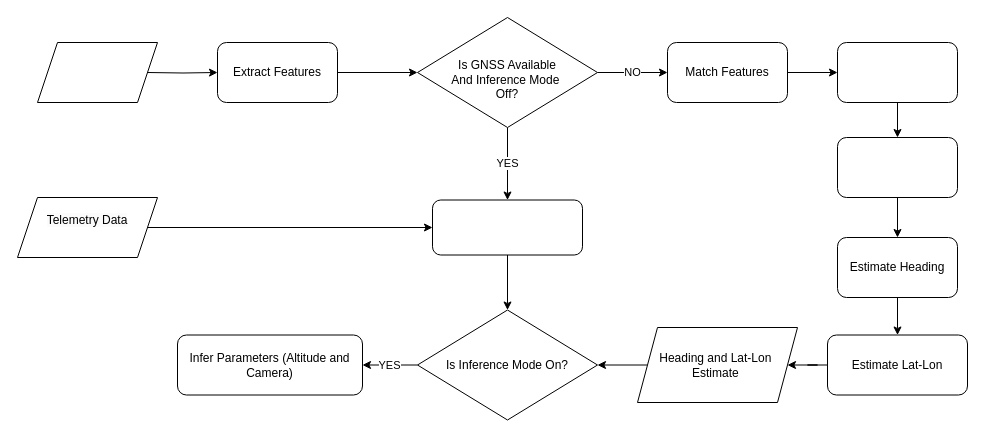
Some shapes in this 985 by 438 pixel diagram are drawn without their labels. Here are the shapes that lost their labels. From the top down, the centre of each, then its label:
point 97,72: Image
point 897,72: Find Most Similar Image
point 897,167: Estimate Planar Transformation
point 507,227: Store Corresponding Features and Telemetry
